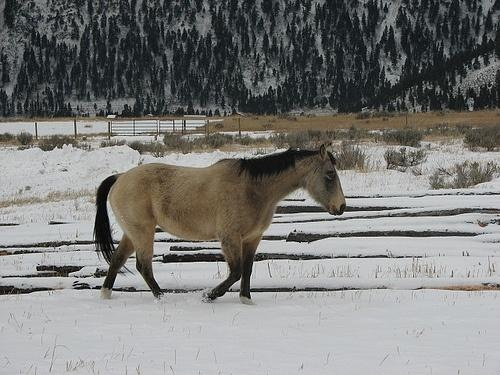horse: (93, 145, 345, 305)
